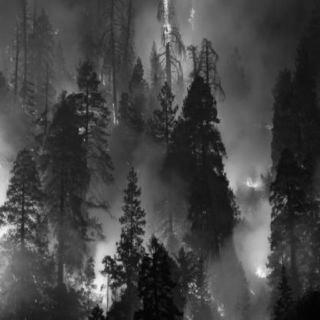Fire: (82, 244, 120, 308), (186, 1, 196, 28)
